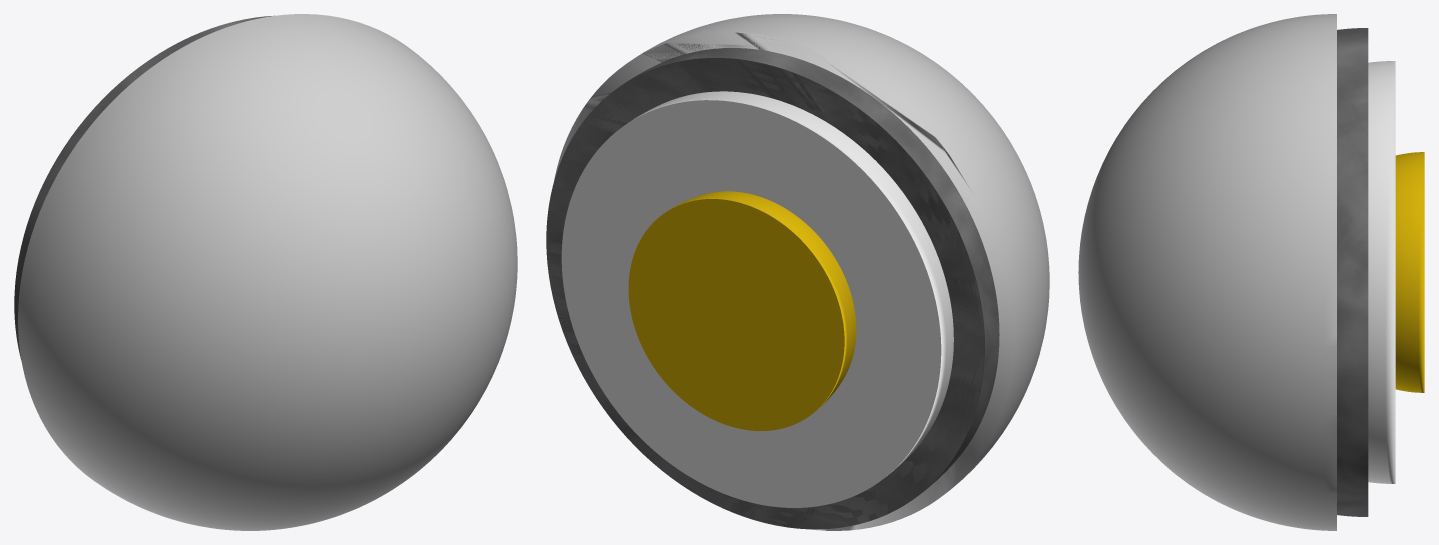
File: mercurio_strat2.fbx
3 renders of one model, left to right at view 1: azimuth 30°, elevation 25°; view 2: azimuth 150°, elevation 25°; view 3: azimuth 270°, elevation 25°, orthographic. The views are drawn at different scales.
Visible parts, largest first — view 1: Sphere.003, Sphere; view 2: Sphere.001, Sphere, Sphere.002, Sphere.003; view 3: Sphere.003, Sphere, Sphere.001, Sphere.002.
Part boxes in pixels (x1,y1,x2,y2): Sphere.003: (18, 14, 517, 530); Sphere: (14, 15, 274, 359); Sphere.001: (561, 91, 953, 507); Sphere: (546, 48, 999, 529); Sphere.002: (628, 191, 856, 430); Sphere.003: (554, 14, 1049, 530); Sphere.003: (1078, 14, 1336, 530); Sphere: (1337, 28, 1368, 516); Sphere.001: (1368, 61, 1395, 483); Sphere.002: (1395, 152, 1424, 392).
Bounding box in the file's own units: 200 × 200 × 134.
